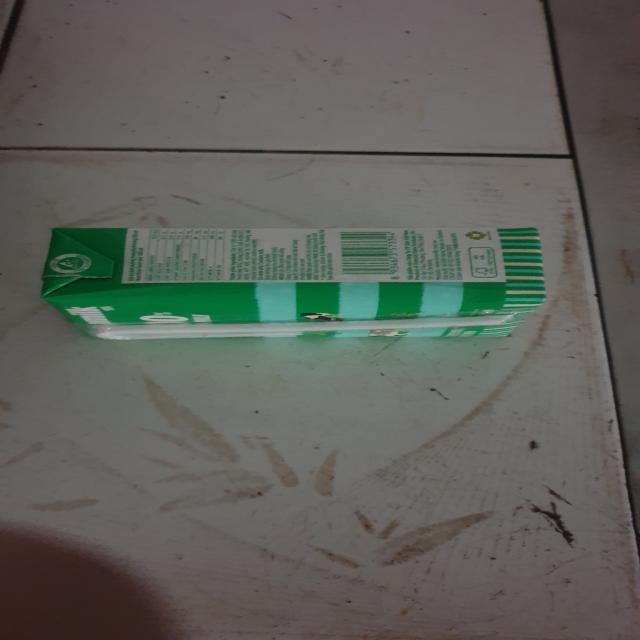Vina: (28, 223, 548, 348)
